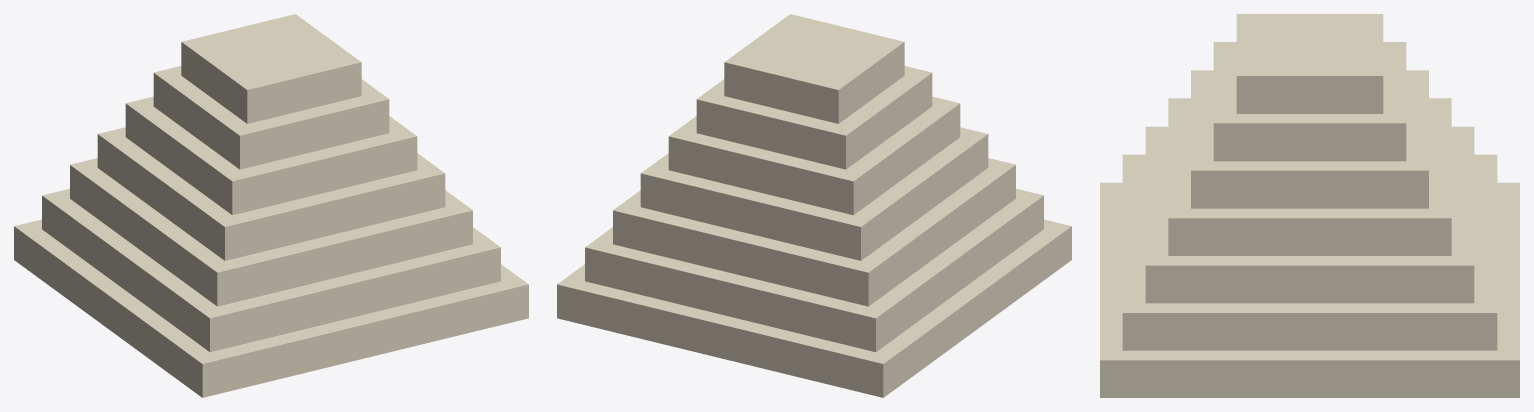
The model's file is place-el-tajin-pyramid-of-the-niches.glb.
3 renders of one model, left to right at view 1: azimuth 30°, elevation 25°; view 2: azimuth 150°, elevation 25°; view 3: azimuth 270°, elevation 25°, orthographic. The views are drawn at different scales.
Visible parts, largest first — view 1: place-el-tajin-pyramid-of-the-niches; view 2: place-el-tajin-pyramid-of-the-niches; view 3: place-el-tajin-pyramid-of-the-niches.
Part boxes in pixels (box(x1,y1,x2,y2)): place-el-tajin-pyramid-of-the-niches: box(14, 14, 528, 397); place-el-tajin-pyramid-of-the-niches: box(557, 14, 1071, 397); place-el-tajin-pyramid-of-the-niches: box(1100, 14, 1519, 397).
Size of the model in its own units: 36 by 25 by 36.
